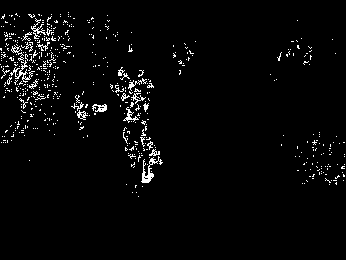person: (123, 106, 163, 189), (130, 67, 155, 128), (114, 63, 133, 124)
